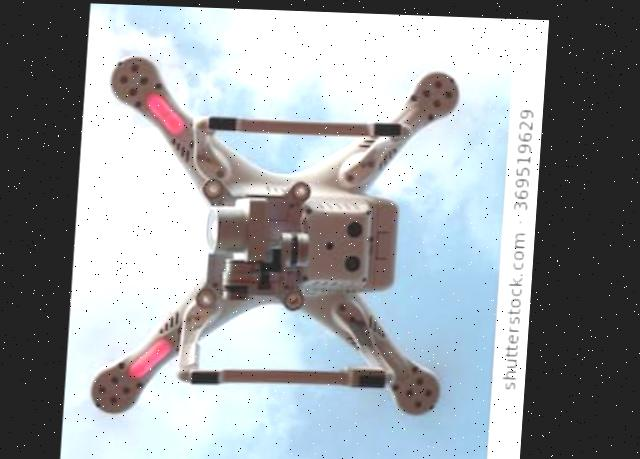drone: (89, 39, 469, 433)
